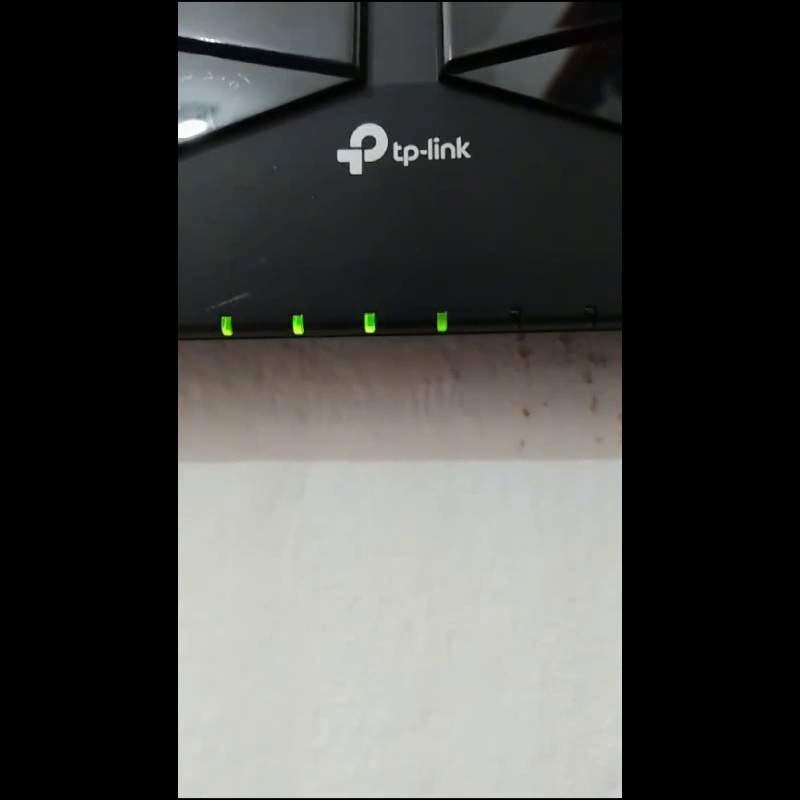off: (510, 308, 521, 328), (584, 307, 595, 326)
on_green: (291, 313, 303, 334), (435, 310, 447, 331), (221, 315, 232, 335), (364, 312, 375, 332)
